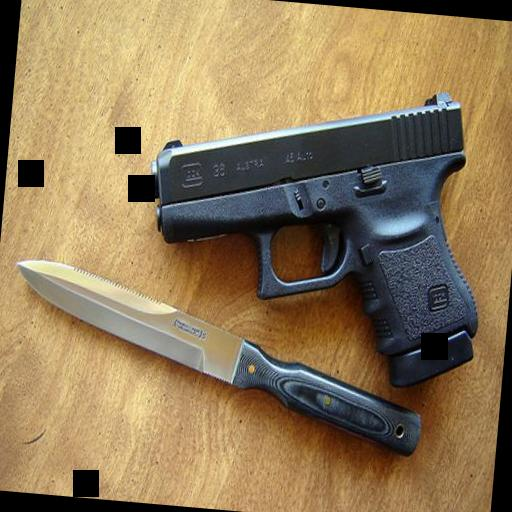Handgun: (130, 60, 498, 394)
